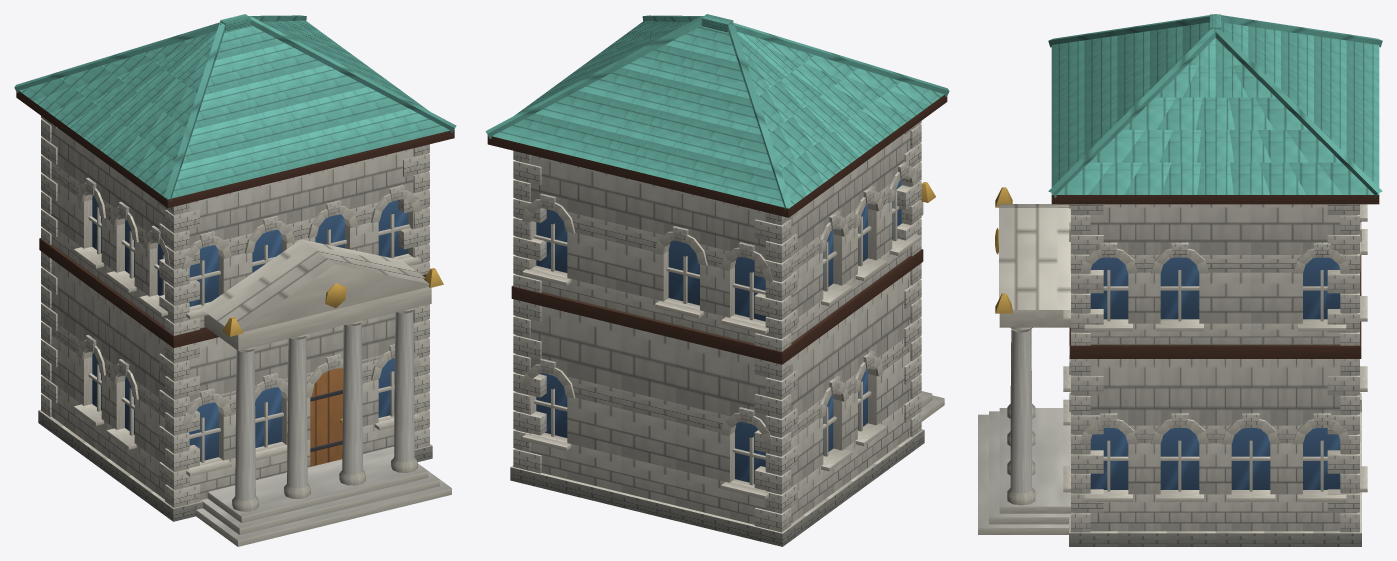
File: biz_bank_01.glb
The picture shows the model from 3 angles, left to right: view 1: azimuth 30°, elevation 25°; view 2: azimuth 150°, elevation 25°; view 3: azimuth 270°, elevation 25°; orthographic projection. The views are drawn at different scales.
Visible parts, largest first — view 1: biz_bank_01; view 2: biz_bank_01; view 3: biz_bank_01.
Boxes of the visible parts, x1=… form: biz_bank_01: x1=14, y1=14, x2=456, y2=546; biz_bank_01: x1=485, y1=14, x2=949, y2=546; biz_bank_01: x1=978, y1=14, x2=1382, y2=546.
Bounding box in the file's own units: 8.47 × 11.67 × 9.36.
Materials: 1 (1 with a texture image).
